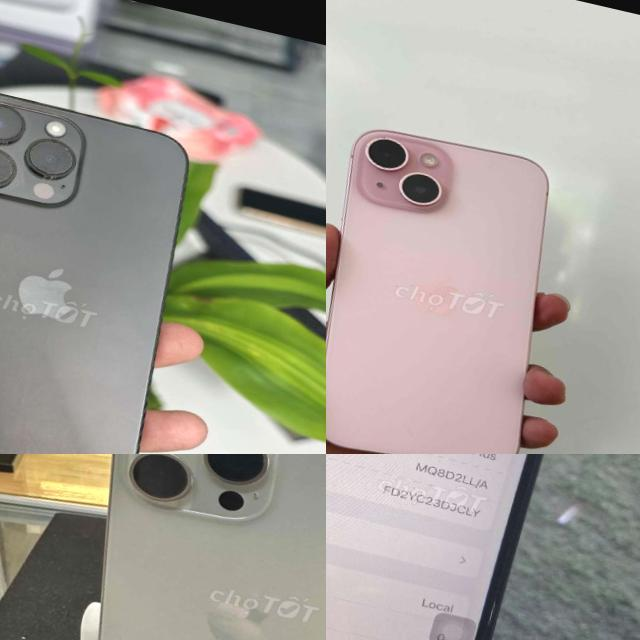gen_14: (0, 78, 220, 454)
gen_15: (326, 98, 634, 454), (30, 454, 326, 640)
gen_7_8: (326, 454, 601, 640)
scratch: (24, 132, 84, 186), (0, 139, 26, 197), (64, 449, 88, 454), (0, 445, 9, 454), (20, 449, 35, 454)
